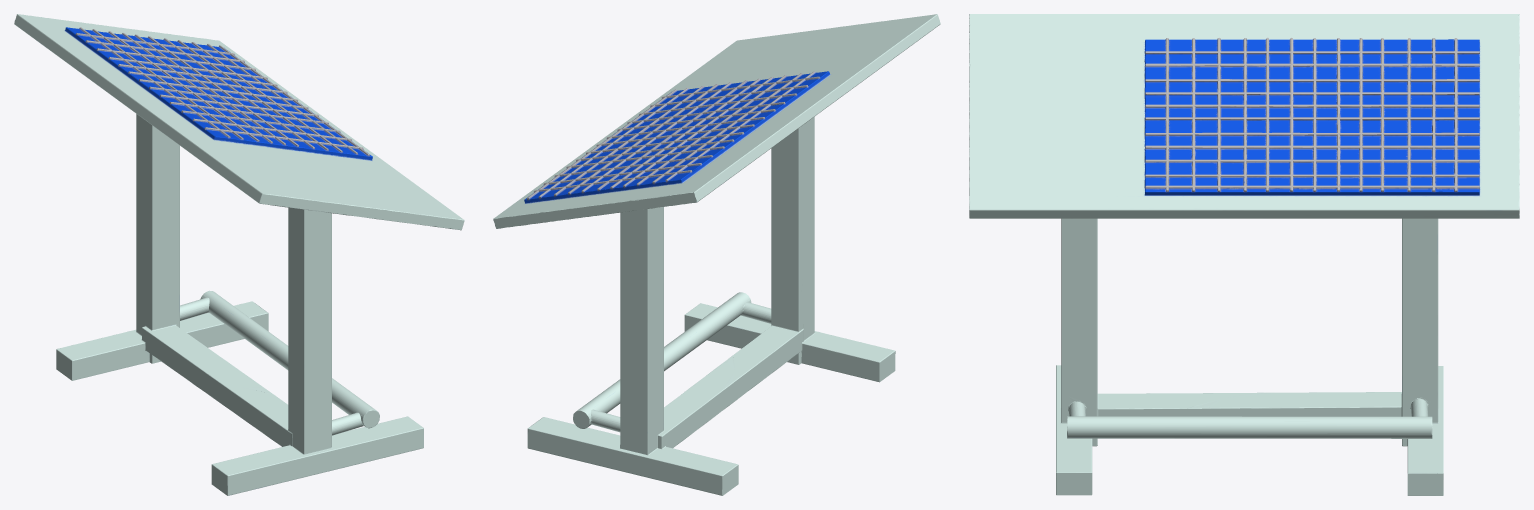
File: zeichentisch_2.obj
The picture shows the model from 3 angles, left to right: view 1: azimuth 30°, elevation 25°; view 2: azimuth 150°, elevation 25°; view 3: azimuth 270°, elevation 25°; orthographic projection. The views are drawn at different scales.
Parts seen in each view (by area): view 1: 283513_23_05_27_07_42_02_0; view 2: 283513_23_05_27_07_42_02_0; view 3: 283513_23_05_27_07_42_02_0.
Boxes of the visible parts, <box> form: 283513_23_05_27_07_42_02_0: <box>14,14,464,495</box>; 283513_23_05_27_07_42_02_0: <box>493,14,940,495</box>; 283513_23_05_27_07_42_02_0: <box>969,14,1519,495</box>.
Bounding box in the file's own units: 3.82 × 5.89 × 7.9.
Materials: 1 (1 with a texture image).
